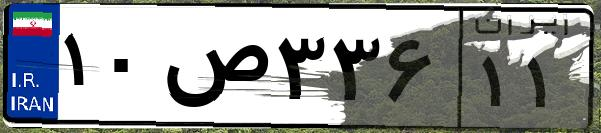0: (110, 28, 158, 98)
1: (57, 26, 110, 100), (475, 38, 525, 113), (525, 38, 570, 115)
3: (270, 28, 330, 110), (330, 28, 385, 110)
6: (385, 28, 445, 110)
ص: (158, 20, 270, 120)
